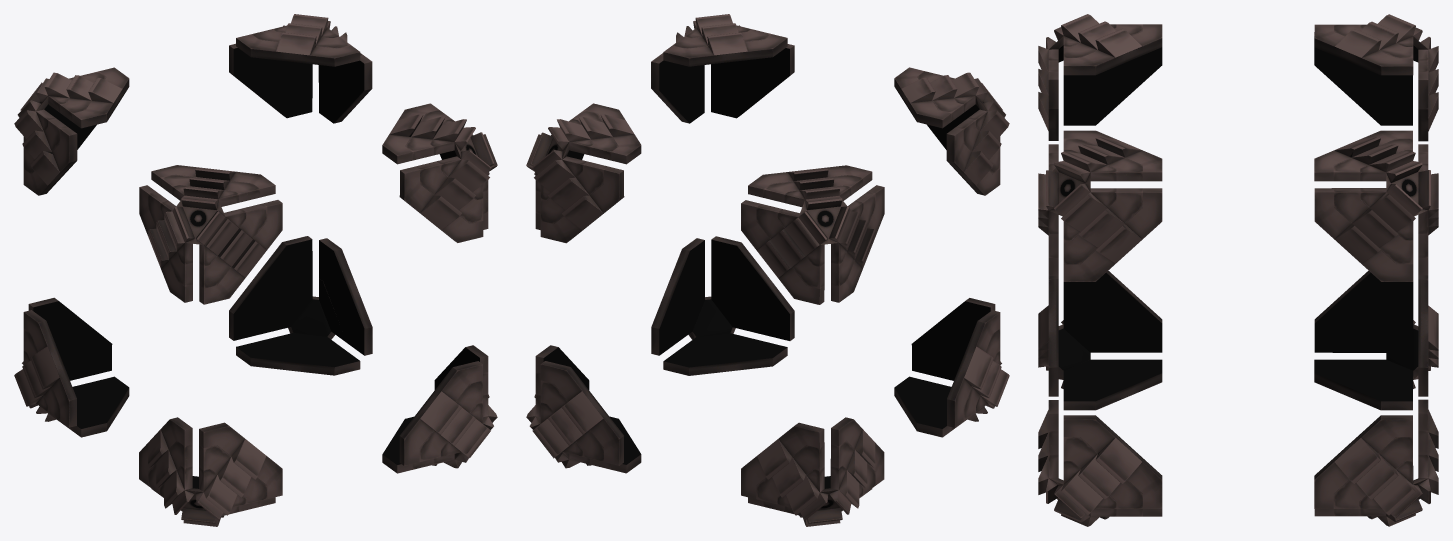
File: Contraption_Cube_Friction4.obj
The picture shows the model from 3 angles, left to right: view 1: azimuth 30°, elevation 25°; view 2: azimuth 150°, elevation 25°; view 3: azimuth 270°, elevation 25°; orthographic projection. The views are drawn at different scales.
Visible parts, largest first — view 1: g0; view 2: g0; view 3: g0.
Part boxes in pixels (x1,y1,x2,y2): g0: (14, 14, 497, 526); g0: (526, 14, 1009, 526); g0: (1038, 14, 1438, 526).
Bounding box in the file's own units: 39.6 × 39.6 × 39.57.
Materials: 1 (1 with a texture image).
